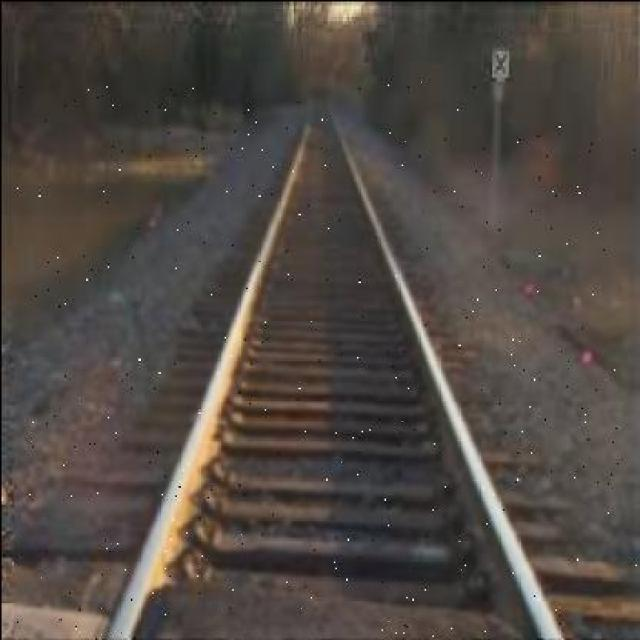rail: (13, 80, 637, 637)
